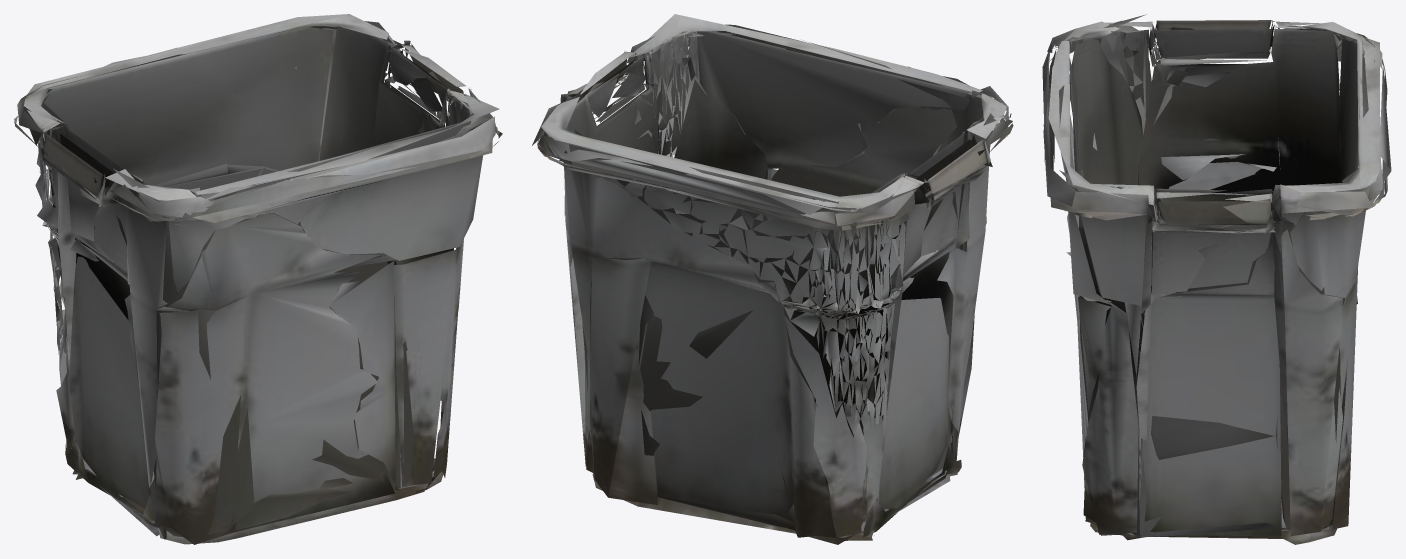
File: bins_lod2.glb
The picture shows the model from 3 angles, left to right: view 1: azimuth 30°, elevation 25°; view 2: azimuth 150°, elevation 25°; view 3: azimuth 270°, elevation 25°; orthographic projection.
Visible parts, largest first — view 1: node_0; view 2: node_0; view 3: node_0.
Part boxes in pixels (x1=…): node_0: x1=14, y1=14, x2=502, y2=544; node_0: x1=532, y1=14, x2=1013, y2=544; node_0: x1=1042, y1=14, x2=1391, y2=544.
Size of the model in its own units: 1.1 by 1.04 by 0.8551.
1 material, 1 textured.
